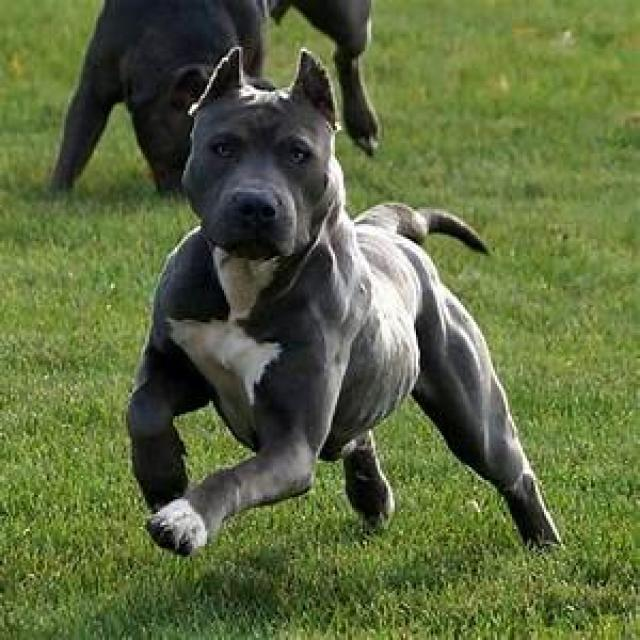dog: (128, 50, 560, 554), (51, 0, 379, 191)
